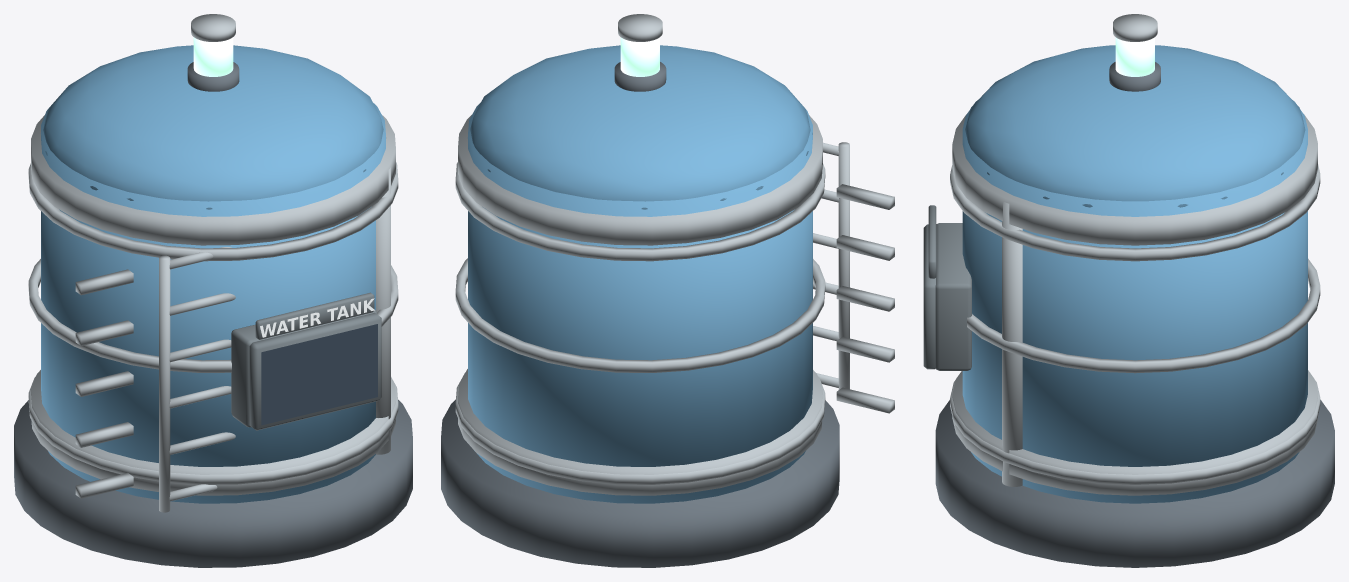
File: water_tank_ultra.glb
3 views of the same model, side by side, from view 1: azimuth 30°, elevation 25°; view 2: azimuth 150°, elevation 25°; view 3: azimuth 270°, elevation 25° (orthographic).
Visible parts, largest first — view 1: Tank_blue_legacy_1, Base_dark_legacy_0, Bands_steel_legacy_2, Band_steel_legacy_14, Ladder_steel_legacy_11, LiveViewSurface_glass, LiveViewSurfaceFrame_frame, Pipe_steel_legacy_7, ScreenMount_frame, TypePlate_frame, StatusLight_safe_legacy_9, Beacon_steel_legacy_10 (+2 smaller); view 2: Tank_blue_legacy_1, Base_dark_legacy_0, Bands_steel_legacy_2, Band_steel_legacy_14, Ladder_steel_legacy_11, StatusLight_safe_legacy_9, Beacon_steel_legacy_10, Beacon_dark_legacy_8; view 3: Tank_blue_legacy_1, Base_dark_legacy_0, Bands_steel_legacy_2, Band_steel_legacy_14, ScreenMount_frame, Pipe_steel_legacy_7, LiveViewSurfaceFrame_frame, StatusLight_safe_legacy_9, Beacon_steel_legacy_10, Beacon_dark_legacy_8, TypePlate_frame.
Part boxes in pixels (x1,y1,x2,y2): Tank_blue_legacy_1: [40, 45, 385, 503]; Base_dark_legacy_0: [14, 399, 412, 567]; Bands_steel_legacy_2: [31, 115, 395, 495]; Band_steel_legacy_14: [28, 162, 398, 484]; Ladder_steel_legacy_11: [75, 247, 235, 512]; LiveViewSurface_glass: [261, 324, 377, 425]; LiveViewSurfaceFrame_frame: [249, 312, 381, 430]; Pipe_steel_legacy_7: [376, 166, 390, 454]; ScreenMount_frame: [231, 309, 377, 427]; TypePlate_frame: [255, 292, 374, 339]; StatusLight_safe_legacy_9: [193, 37, 233, 76]; Beacon_steel_legacy_10: [191, 14, 235, 41]; Tank_blue_legacy_1: [467, 45, 812, 503]; Base_dark_legacy_0: [441, 399, 839, 567]; Bands_steel_legacy_2: [458, 115, 822, 495]; Band_steel_legacy_14: [455, 162, 825, 484]; Ladder_steel_legacy_11: [813, 142, 894, 413]; StatusLight_safe_legacy_9: [620, 37, 659, 76]; Beacon_steel_legacy_10: [618, 14, 662, 41]; Beacon_dark_legacy_8: [614, 62, 666, 91]; Tank_blue_legacy_1: [962, 45, 1307, 503]; Base_dark_legacy_0: [935, 399, 1334, 567]; Bands_steel_legacy_2: [952, 114, 1317, 495]; Band_steel_legacy_14: [950, 164, 1320, 484]; ScreenMount_frame: [935, 223, 971, 370]; Pipe_steel_legacy_7: [1002, 201, 1022, 486]; LiveViewSurfaceFrame_frame: [923, 224, 935, 369]; StatusLight_safe_legacy_9: [1115, 37, 1154, 76]; Beacon_steel_legacy_10: [1113, 14, 1157, 41]; Beacon_dark_legacy_8: [1109, 62, 1160, 91]; TypePlate_frame: [928, 205, 936, 278].
Bounding box in the file's own units: 1.88 × 2.26 × 1.84.
